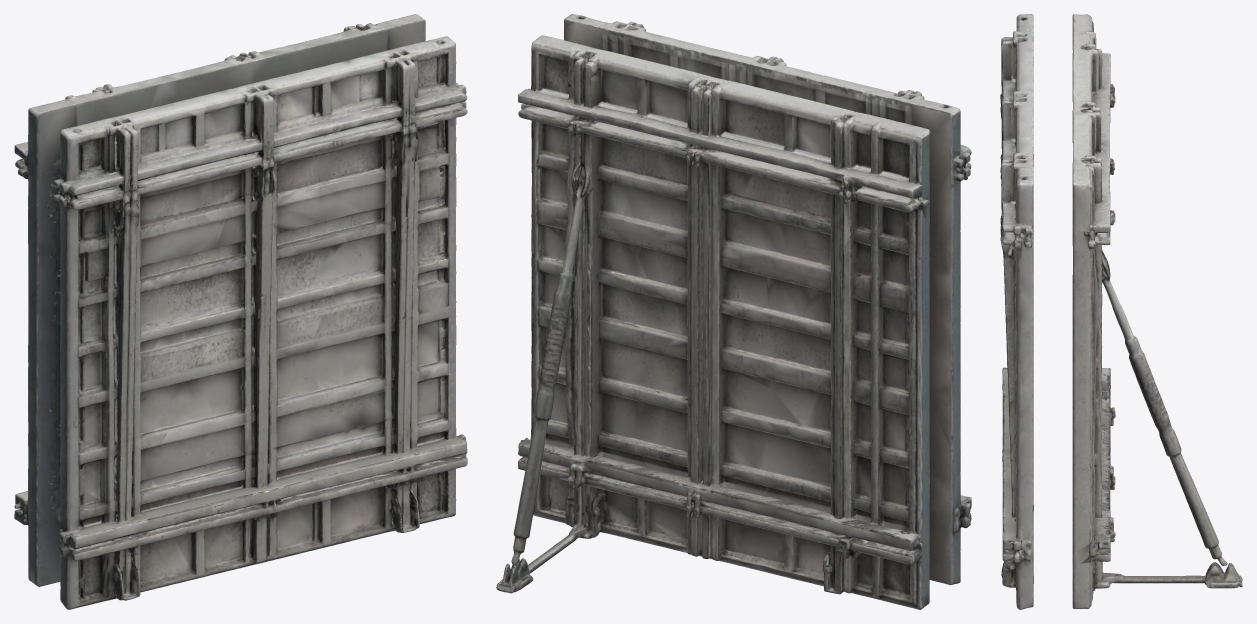
The model's file is Wall.glb.
The picture shows the model from 3 angles, left to right: view 1: azimuth 30°, elevation 25°; view 2: azimuth 150°, elevation 25°; view 3: azimuth 270°, elevation 25°; orthographic projection. The views are drawn at different scales.
Parts seen in each view (by area): view 1: texture_mapping; view 2: texture_mapping; view 3: texture_mapping.
Part boxes in pixels (x1,y1,x2,y2): texture_mapping: (14, 14, 467, 609); texture_mapping: (496, 14, 971, 609); texture_mapping: (1000, 14, 1242, 609).
Size of the model in its own units: 0.8849 by 0.9961 by 0.511.
Materials: 1 (1 with a texture image).
